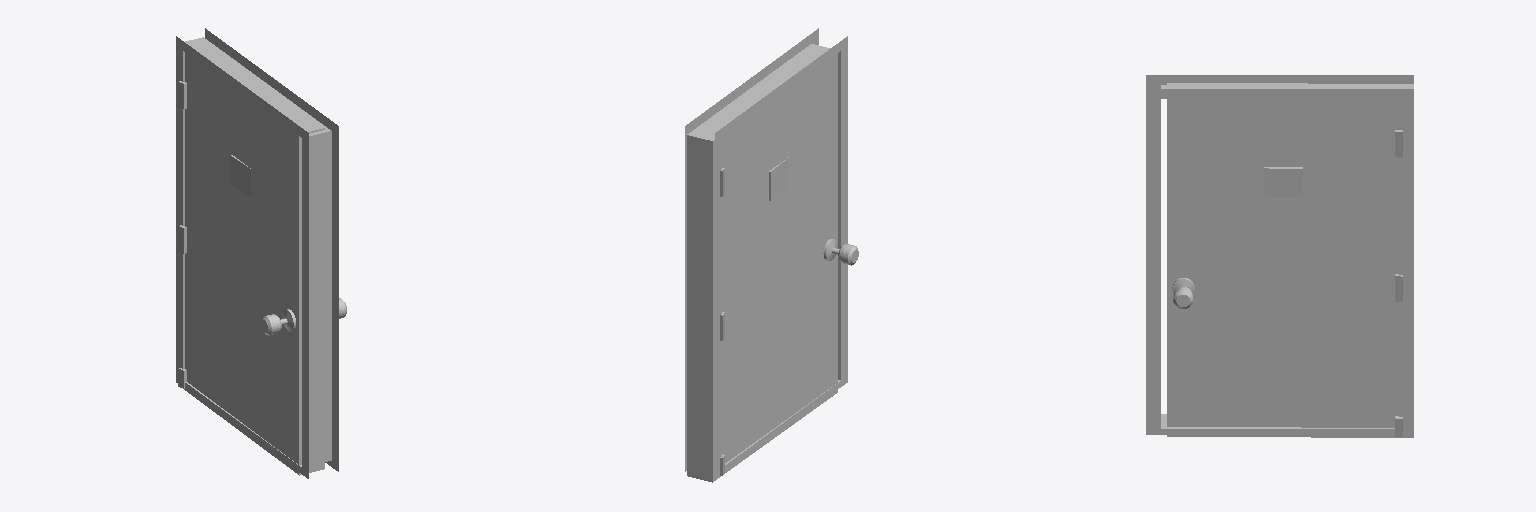
Rendered from Door_1_Open3.obj.
The picture shows the model from 3 angles: view 1: azimuth 30°, elevation 25°; view 2: azimuth 150°, elevation 25°; view 3: azimuth 270°, elevation 25°; orthographic projection.
Visible parts, largest first — view 1: Door, Frame_Door; view 2: Door, Frame_Door; view 3: Door, Frame_Door.
Boxes of the visible parts, x1=… form: Door: x1=184, y1=37, x2=346, y2=475; Frame_Door: x1=176, y1=28, x2=338, y2=478; Door: x1=687, y1=45, x2=858, y2=482; Frame_Door: x1=685, y1=28, x2=847, y2=478; Door: x1=1167, y1=83, x2=1413, y2=437; Frame_Door: x1=1146, y1=75, x2=1413, y2=436.
Size of the model in its own units: 0.2868 by 1.21 by 0.8419.